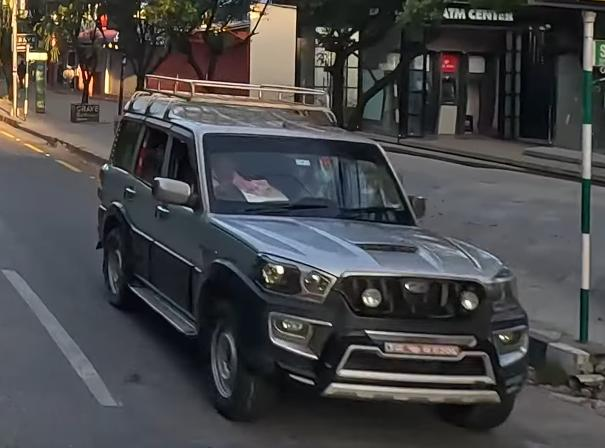SUV: (91, 62, 529, 437)
